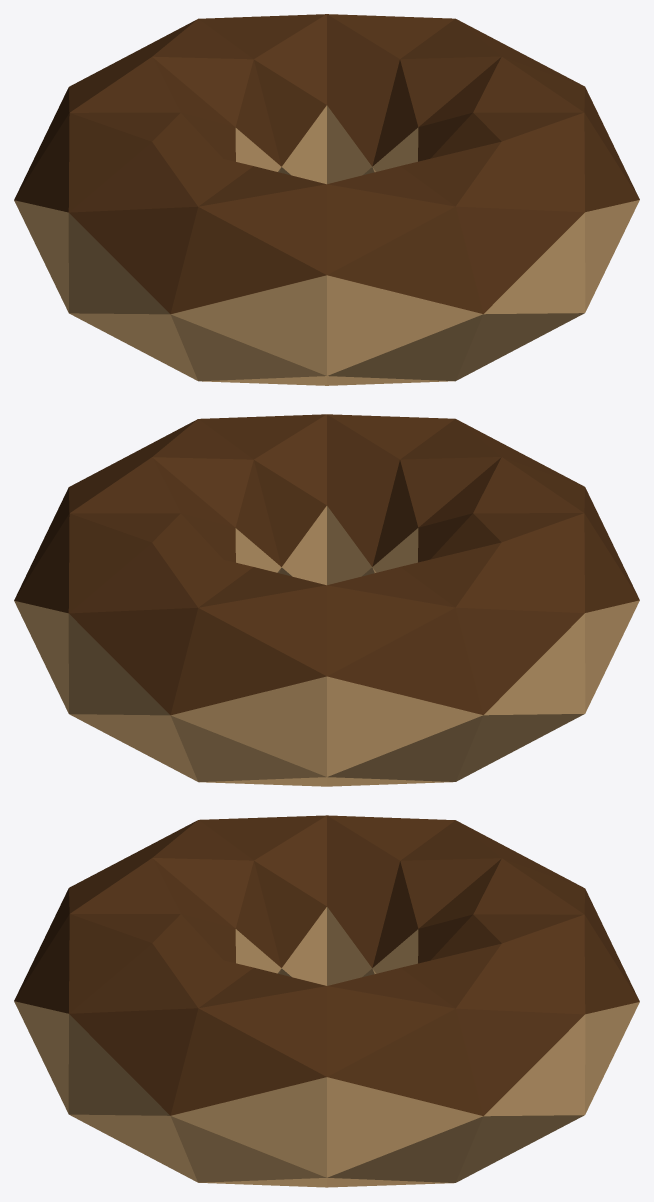
The model's file is doughnut_choco.fbx.
3 views of the same model, one above another, from view 1: azimuth 30°, elevation 25°; view 2: azimuth 150°, elevation 25°; view 3: azimuth 270°, elevation 25° (orthographic).
Parts seen in each view (by area): view 1: dougnut_choco; view 2: dougnut_choco; view 3: dougnut_choco.
Boxes of the visible parts, x1=… form: dougnut_choco: x1=14, y1=14, x2=639, y2=385; dougnut_choco: x1=14, y1=414, x2=639, y2=786; dougnut_choco: x1=14, y1=815, x2=639, y2=1187.
Bounding box in the file's own units: 8.94 × 3.34 × 9.39.
